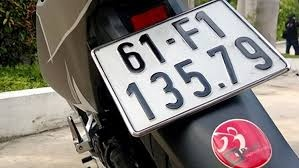Bien-so: (91, 0, 298, 132)
